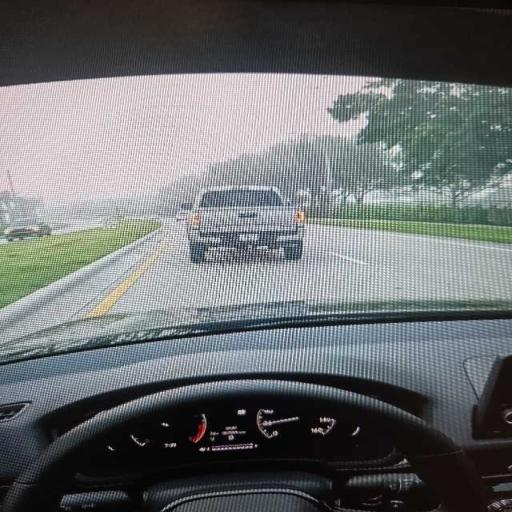car: (0, 0, 511, 511), (4, 220, 51, 241), (176, 212, 188, 222)
lane: (112, 225, 511, 311), (52, 222, 102, 235)
truck: (185, 186, 304, 262)
